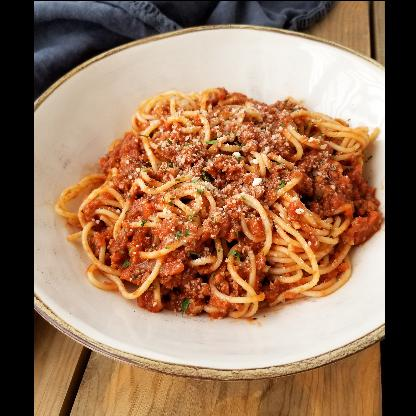spaghetti: (52, 86, 382, 318)
